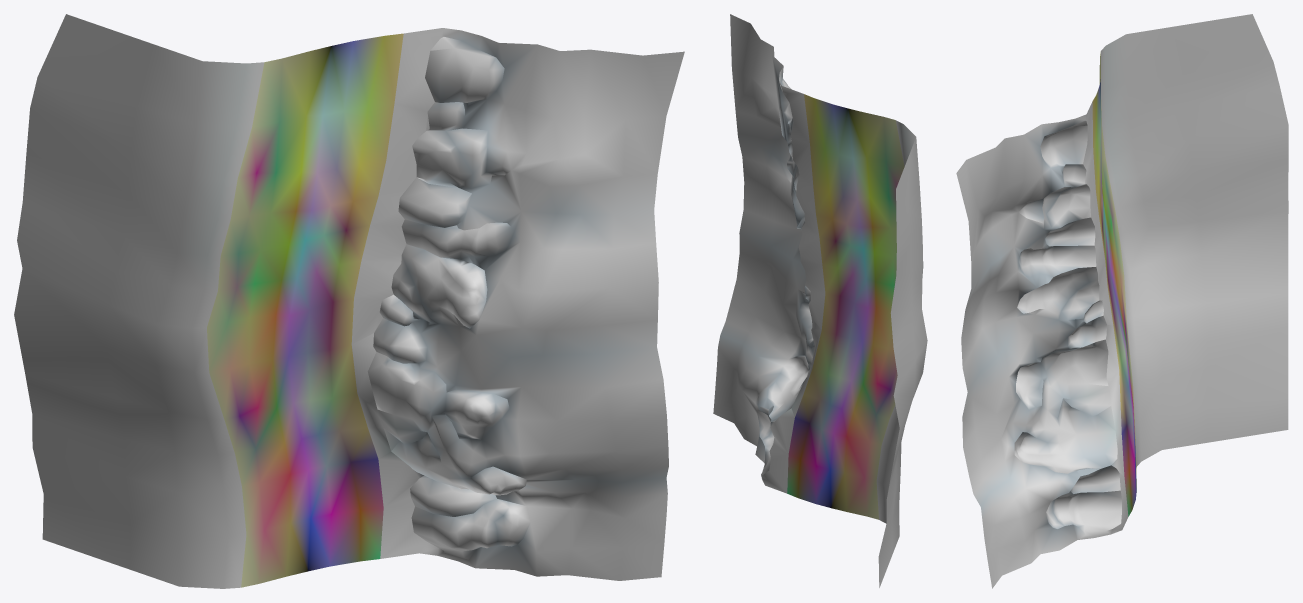
Rendered from Snow_RampStraightC.glb.
The picture shows the model from 3 angles, left to right: view 1: azimuth 30°, elevation 25°; view 2: azimuth 150°, elevation 25°; view 3: azimuth 270°, elevation 25°; orthographic projection. The views are drawn at different scales.
Parts seen in each view (by area): view 1: MeshNode_1, MeshNode_0; view 2: MeshNode_1, MeshNode_0; view 3: MeshNode_1, MeshNode_0.
Boxes of the visible parts, x1,y1,x2,y2 form: MeshNode_1: (14, 14, 684, 588); MeshNode_0: (207, 33, 403, 587); MeshNode_1: (713, 14, 927, 587); MeshNode_0: (787, 94, 904, 519); MeshNode_1: (956, 14, 1288, 588); MeshNode_0: (1092, 51, 1136, 516).
Bounding box in the file's own units: 112 × 128 × 92.68.
